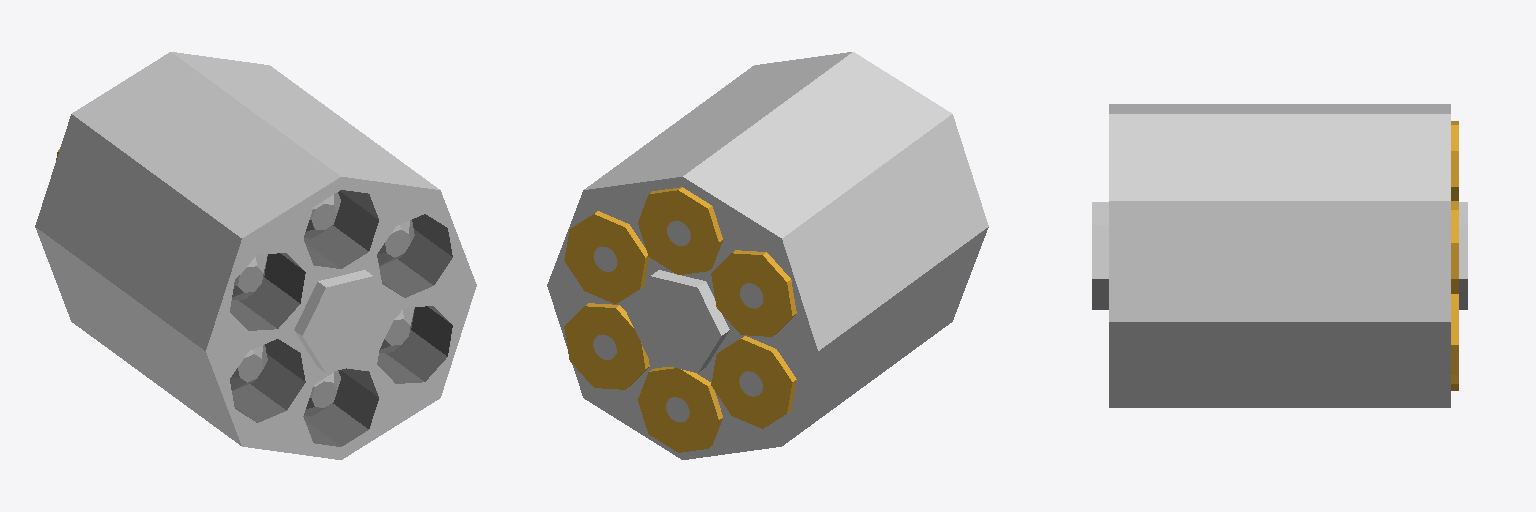
3 renders of one model, left to right at view 1: azimuth 30°, elevation 25°; view 2: azimuth 150°, elevation 25°; view 3: azimuth 270°, elevation 25°, orthographic.
Visible parts, largest first — view 1: 円柱, 平面.004, 平面.003, 平面, 平面.005, 平面.002, 平面.001; view 2: 円柱, 平面.005, 平面.004, 平面.003, 平面, 平面.002, 平面.001; view 3: 円柱, 平面, 平面.001, 平面.005.
Boxes of the visible parts, <box> form: 円柱: <box>35,52,476,459</box>; 平面.004: <box>56,149,267,299</box>; 平面.003: <box>230,344,267,390</box>; 平面: <box>377,220,414,265</box>; 平面.005: <box>304,192,340,238</box>; 平面.002: <box>304,371,340,415</box>; 平面.001: <box>379,307,414,352</box>; 円柱: <box>547,52,988,459</box>; 平面.005: <box>638,187,722,274</box>; 平面.004: <box>711,250,796,336</box>; 平面.003: <box>711,336,796,428</box>; 平面: <box>564,211,648,303</box>; 平面.002: <box>638,367,722,452</box>; 平面.001: <box>564,303,649,389</box>; 円柱: <box>1092,104,1467,407</box>; 平面: <box>1451,201,1458,293</box>; 平面.001: <box>1451,294,1458,383</box>; 平面.005: <box>1451,121,1458,200</box>.
Bounding box in the file's own units: 1.83 × 1.83 × 2.2.
Materials: 6 (1 with a texture image).